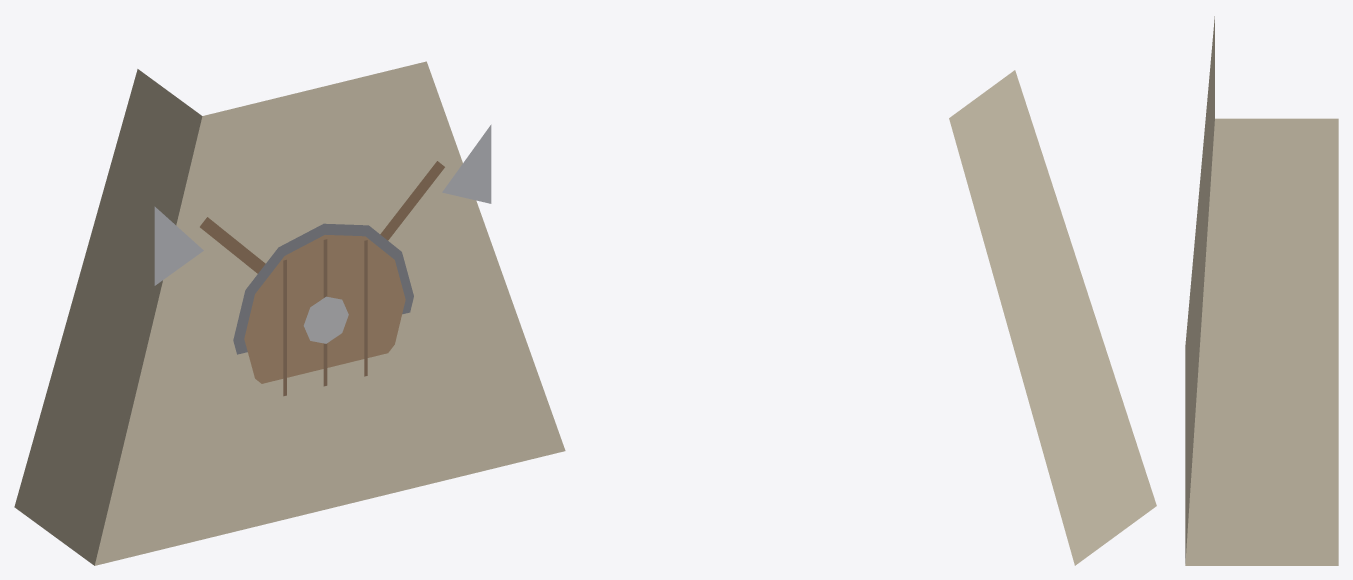
File: capelo_escudo.glb
3 renders of one model, left to right at view 1: azimuth 30°, elevation 25°; view 2: azimuth 150°, elevation 25°; view 3: azimuth 270°, elevation 25°, orthographic. The views are drawn at different scales.
Visible parts, largest first — view 1: Malha_0; view 2: Malha_0; view 3: Malha_0.
Part boxes in pixels (bbox=[...]): Malha_0: bbox=[14, 61, 565, 565]; Malha_0: bbox=[949, 70, 1156, 565]; Malha_0: bbox=[1185, 16, 1338, 565].
Bounding box in the file's own units: 2.1 × 1.74 × 0.62.
